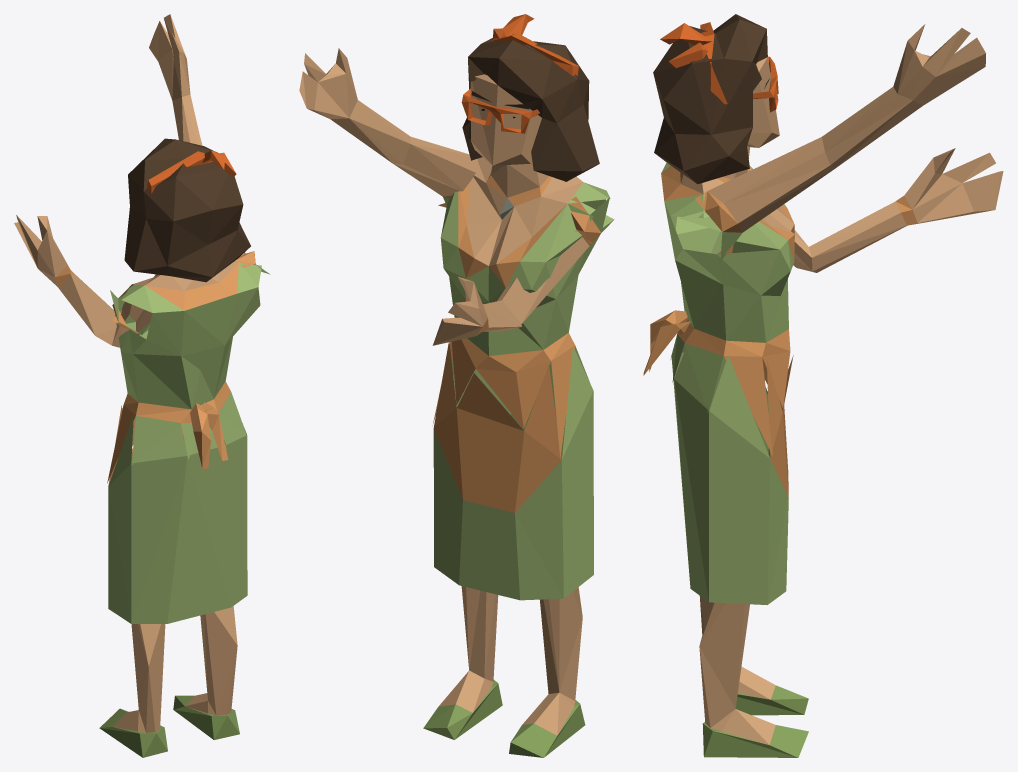
The model's file is Cousin_Point.obj.
3 renders of one model, left to right at view 1: azimuth 30°, elevation 25°; view 2: azimuth 150°, elevation 25°; view 3: azimuth 270°, elevation 25°, orthographic. The views are drawn at different scales.
Visible parts, largest first — view 1: Cousin_Point; view 2: Cousin_Point; view 3: Cousin_Point.
Boxes of the visible parts, x1,y1,x2,y2 form: Cousin_Point: (14, 14, 270, 757); Cousin_Point: (299, 14, 614, 757); Cousin_Point: (643, 14, 1003, 757).
Bounding box in the file's own units: 0.54 × 1.95 × 0.8476.
Materials: 1 (1 with a texture image).
